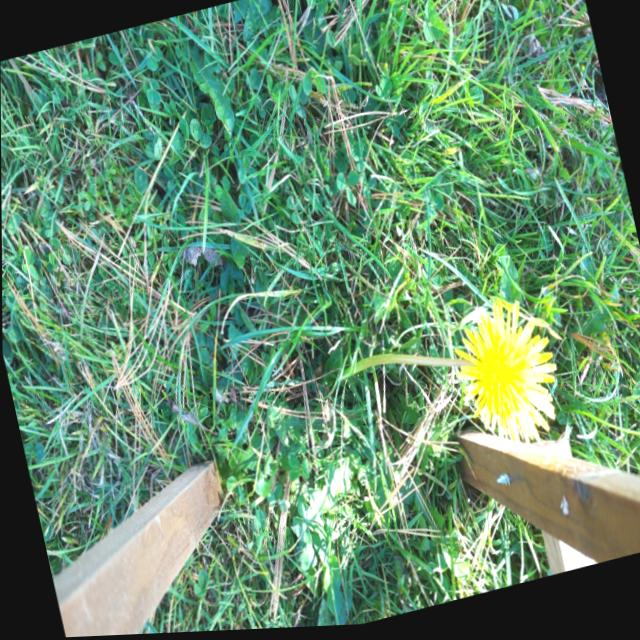base: (322, 364, 349, 401)
